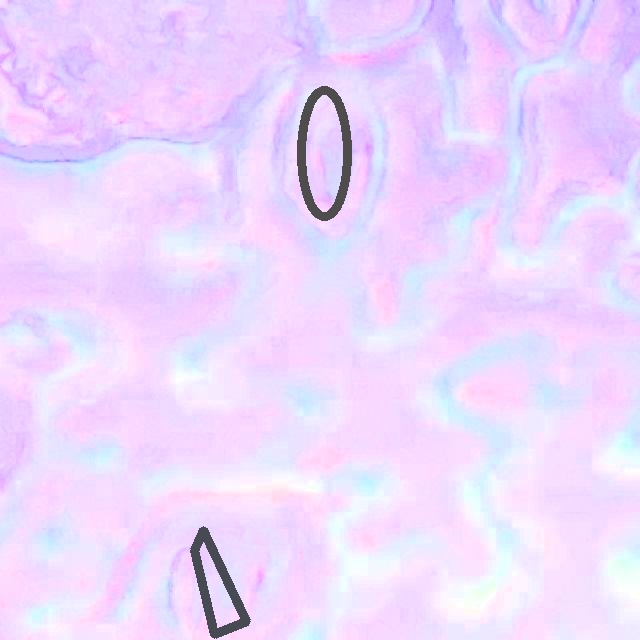close: (298, 86, 351, 220), (190, 526, 249, 637)
